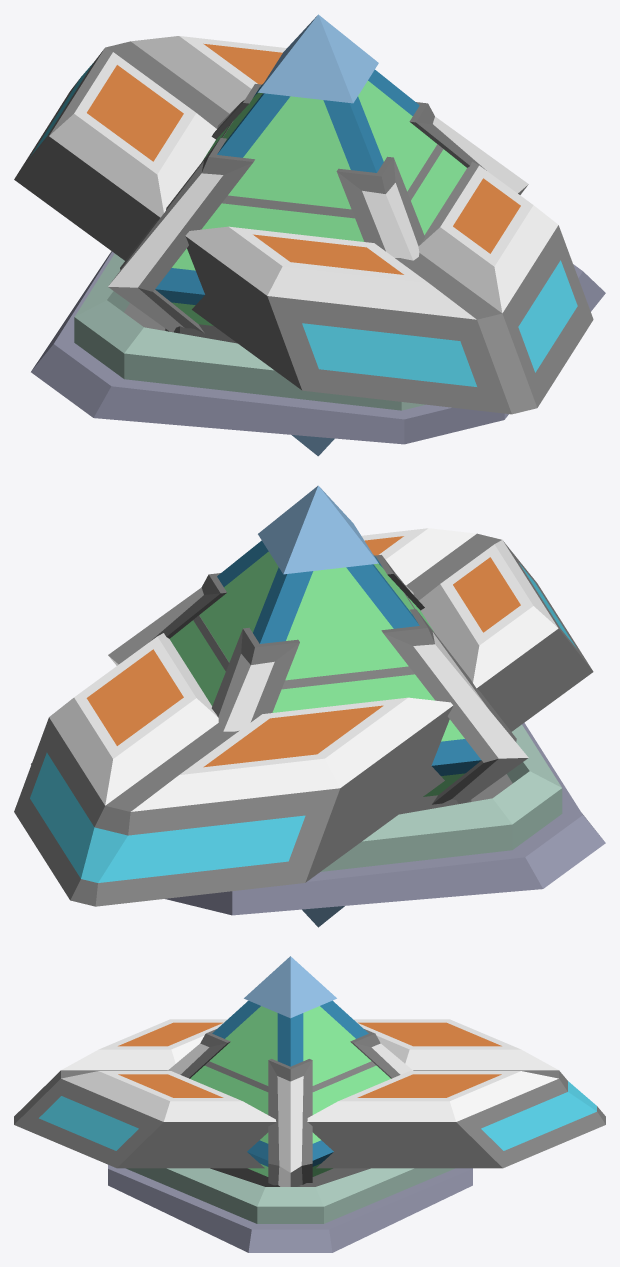
File: Speedbooster_Joined.fbx
3 views of the same model, one above another, from view 1: azimuth 30°, elevation 25°; view 2: azimuth 150°, elevation 25°; view 3: azimuth 270°, elevation 25° (orthographic). The views are drawn at different scales.
Visible parts, largest first — view 1: Cone; view 2: Cone; view 3: Cone.
Boxes of the visible parts, <box> form: Cone: <box>14,14,605,456</box>; Cone: <box>14,485,605,927</box>; Cone: <box>14,956,605,1252</box>.
Bounding box in the file's own units: 2.54 × 2.09 × 3.79.
